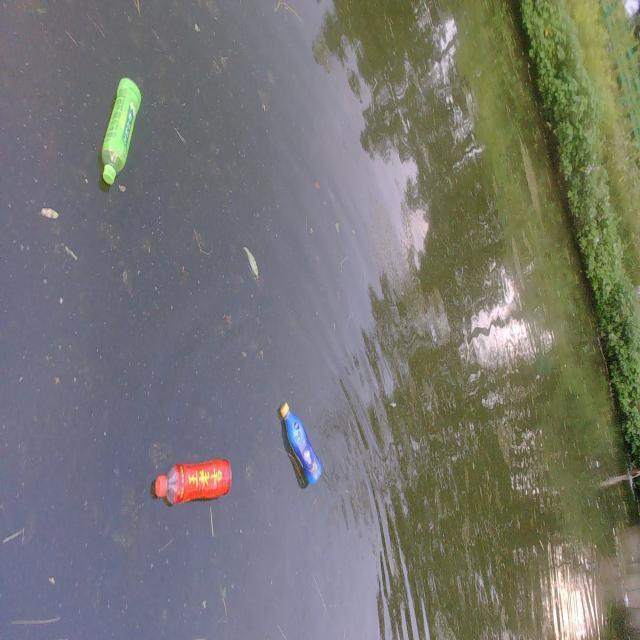bottle: (89, 64, 151, 196), (138, 446, 249, 513), (270, 389, 340, 487)
